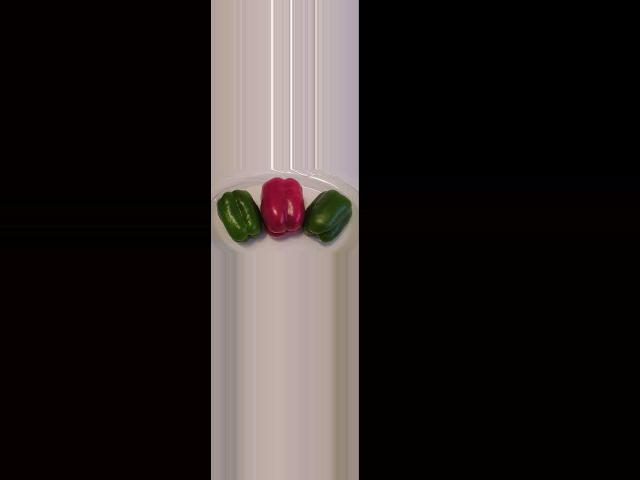bell_pepper: (302, 183, 354, 247)
